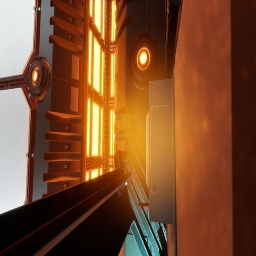SafetySwitchPanel ,: (138, 79, 173, 225)
